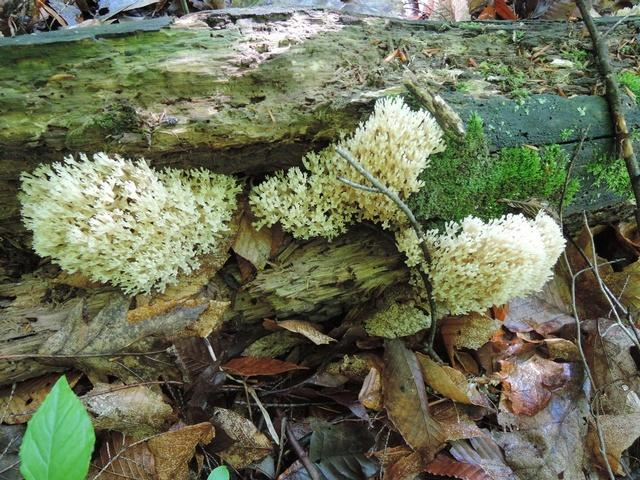Edible Mushroom: (17, 148, 244, 302), (395, 209, 568, 313), (337, 97, 441, 230), (241, 147, 344, 244)
